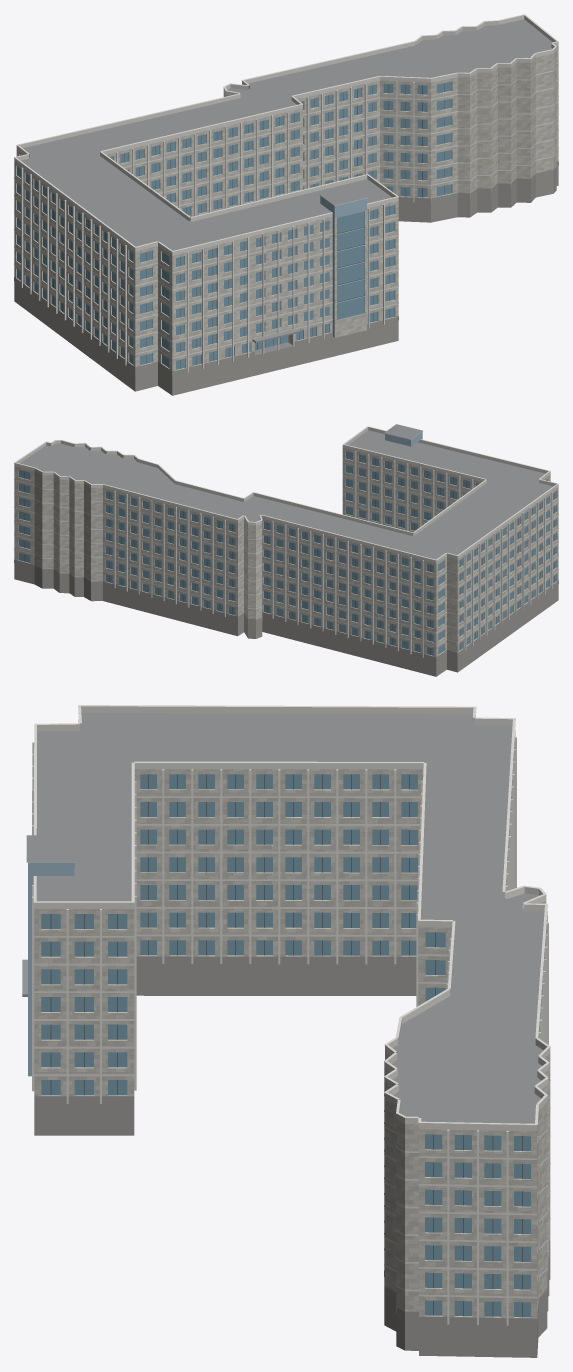
3 renders of one model, top to bottom at view 1: azimuth 30°, elevation 25°; view 2: azimuth 150°, elevation 25°; view 3: azimuth 270°, elevation 25°, orthographic. The views are drawn at different scales.
Visible parts, largest first — view 1: arts1__wall, arts1__roof, arts1__glass, arts1__trim, arts1__base, arts1__parapet, arts1__frame, arts1__wall2; view 2: arts1__wall, arts1__roof, arts1__glass, arts1__trim, arts1__base, arts1__parapet, arts1__frame; view 3: arts1__roof, arts1__wall, arts1__glass, arts1__trim, arts1__base, arts1__parapet, arts1__frame, arts1__wall2.
Part boxes in pixels (box(x1,y1,x2,y2)): arts1__wall: box(14, 46, 558, 375); arts1__roof: box(21, 19, 552, 355); arts1__glass: box(17, 81, 451, 369); arts1__trim: box(14, 14, 558, 372); arts1__base: box(14, 161, 558, 395); arts1__parapet: box(14, 15, 558, 255); arts1__frame: box(53, 83, 444, 368); arts1__wall2: box(320, 196, 366, 337); arts1__wall: box(14, 448, 558, 657); arts1__roof: box(20, 424, 552, 559); arts1__glass: box(19, 451, 556, 655); arts1__trim: box(14, 426, 558, 657); arts1__base: box(14, 559, 558, 676); arts1__parapet: box(14, 427, 558, 563); arts1__frame: box(24, 458, 554, 654); arts1__roof: box(26, 713, 544, 1123); arts1__wall: box(34, 717, 550, 1321); arts1__glass: box(41, 774, 530, 1317); arts1__trim: box(26, 705, 550, 1325); arts1__base: box(34, 956, 550, 1357); arts1__parapet: box(34, 706, 550, 1131); arts1__frame: box(50, 774, 522, 1317); arts1__wall2: box(28, 862, 74, 1076).
Bounding box in the file's own units: 124 × 34 × 65.72.
Materials: 10 (1 with a texture image).
